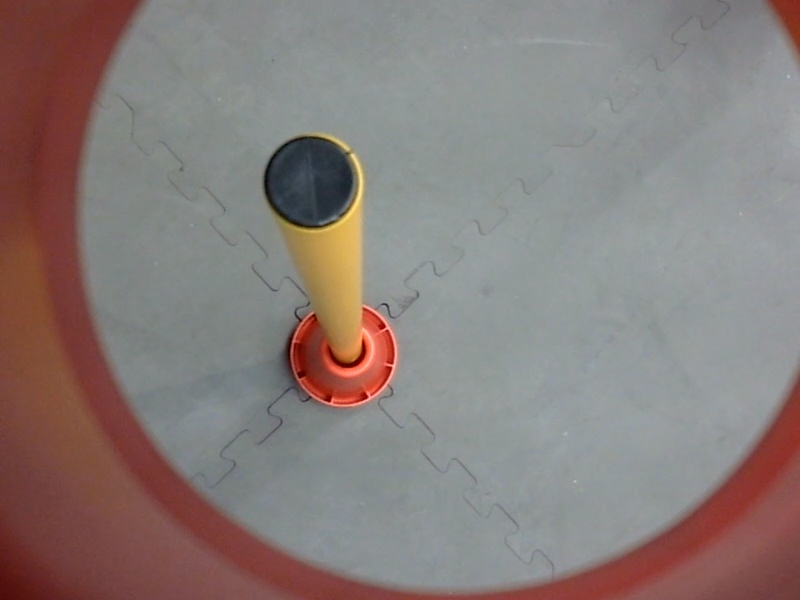tip: (254, 128, 370, 239)
